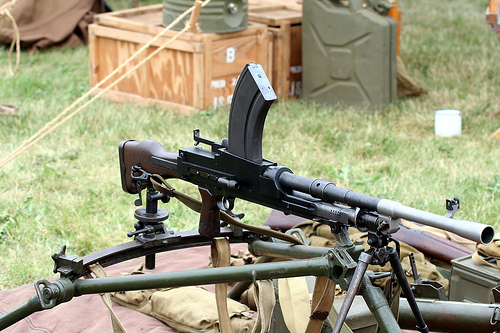rifle: (110, 71, 490, 309)
